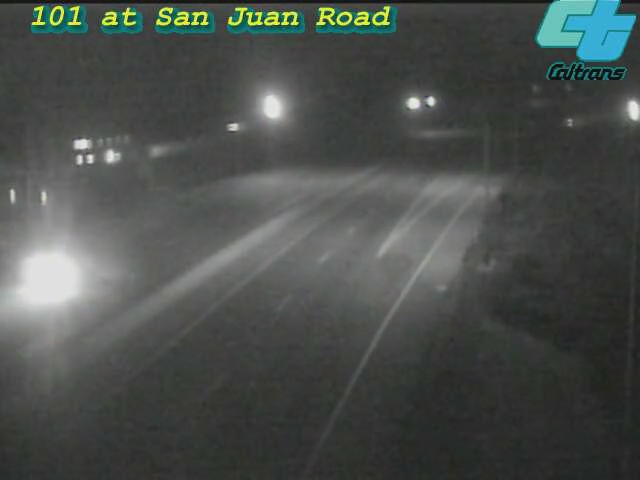vehicle: (8, 235, 88, 315), (606, 86, 640, 136)
